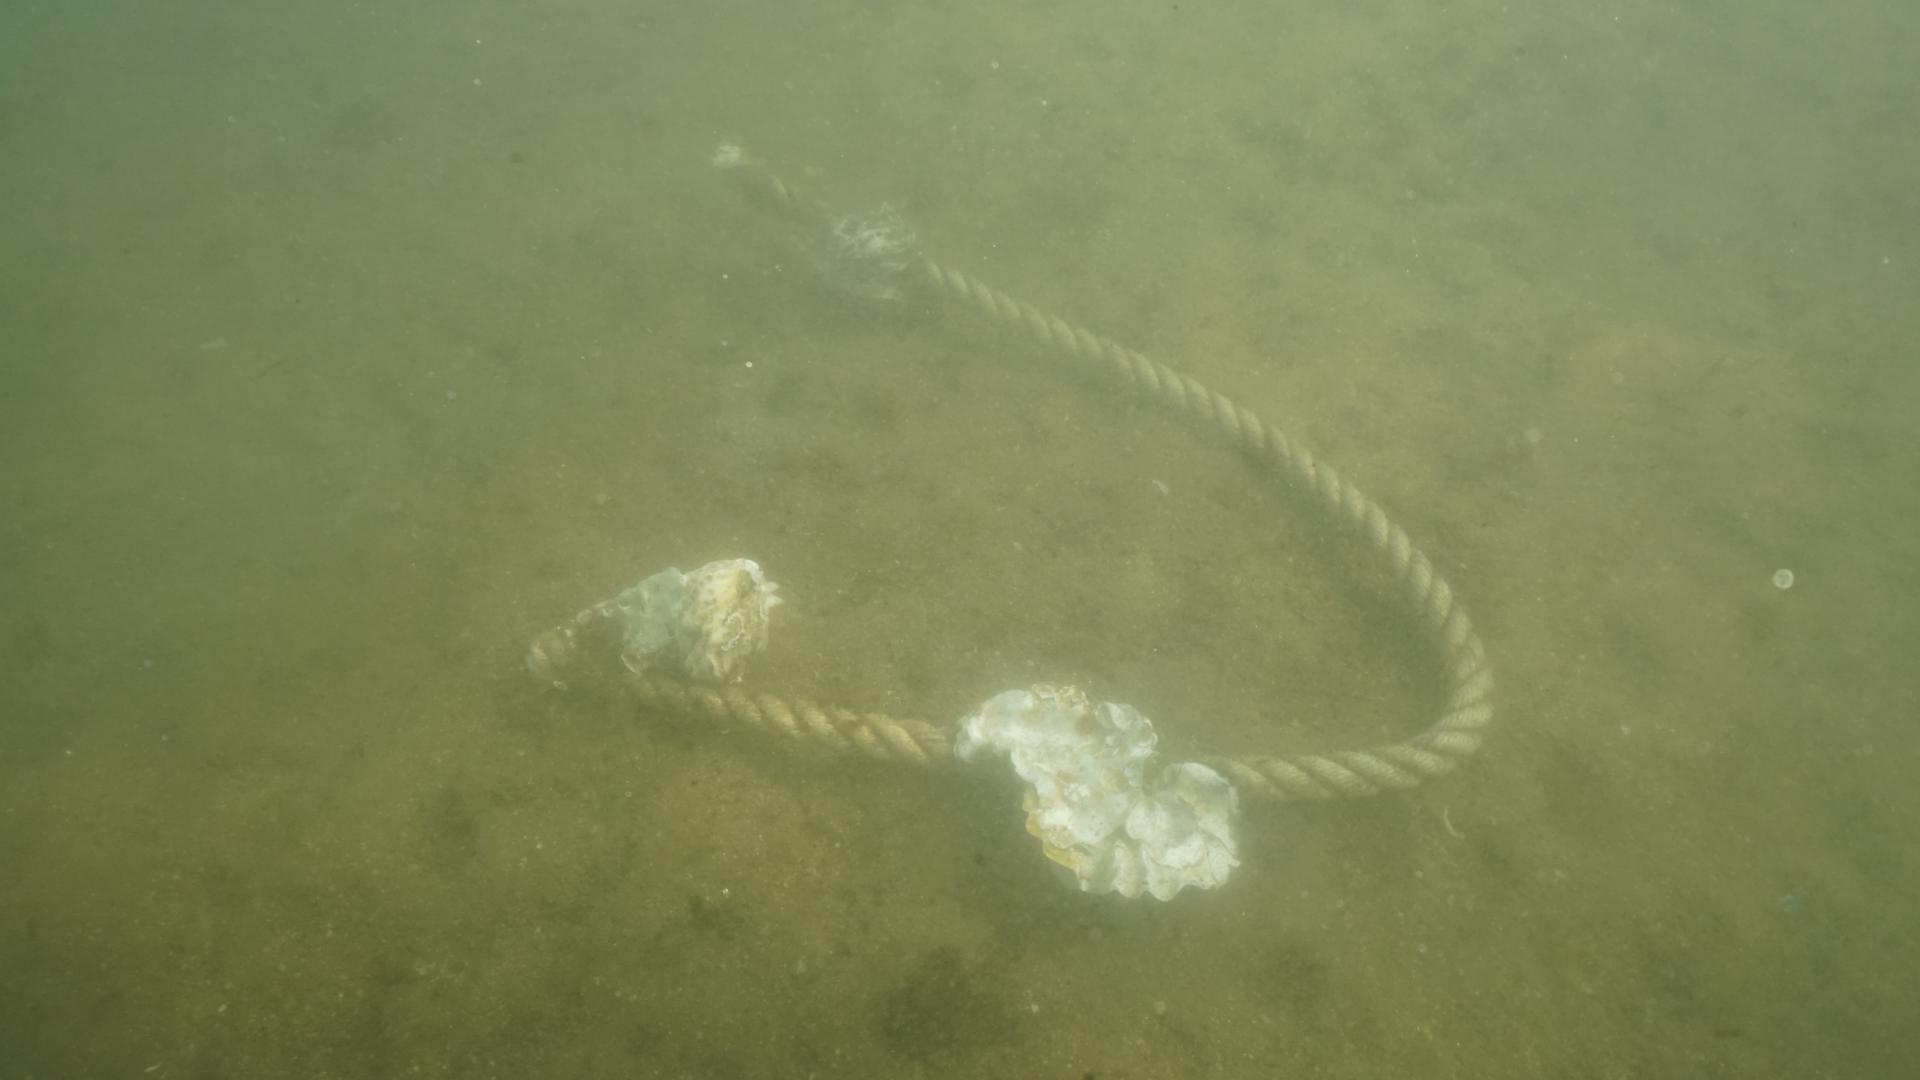rope: (601, 131, 1503, 814)
